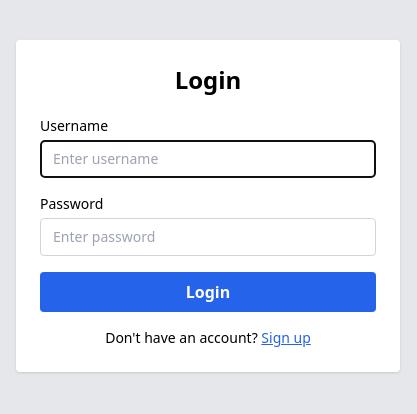
Scenario: LoginPage Integration › clears validation errors when user starts typing
The width and height of the screenshot is (417, 414).
# Trigger validation errors
Click the button "Login" at (208, 292), box [40, 272, 376, 312]
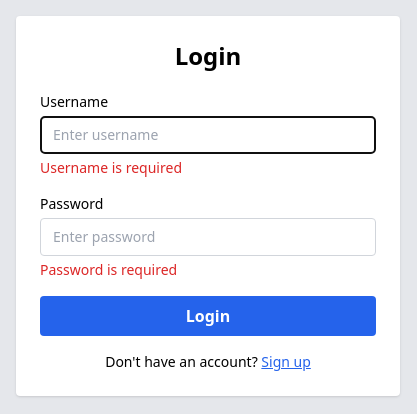
Expected: the text "Username is required" is shown, [40, 158, 182, 177]
# Start typing in username field
Type "u" into the field labelled "Username" at (208, 135), box [40, 116, 376, 154]
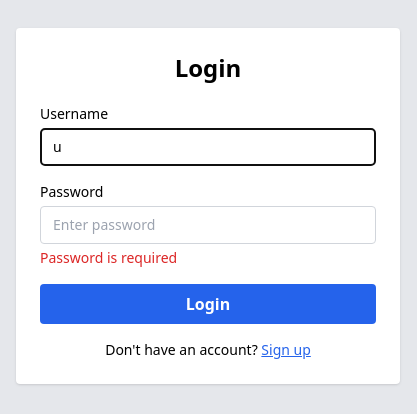
Expected: the text "Username is required" is gone
